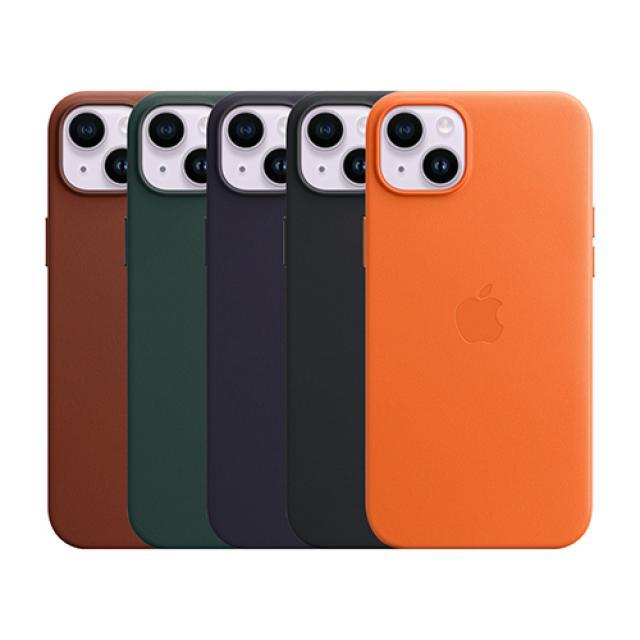phone: (361, 90, 597, 550)
